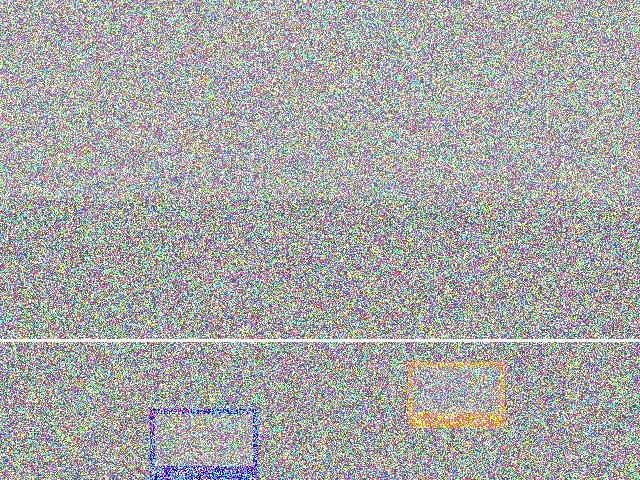bus: (13, 325, 172, 420)
truck: (383, 225, 532, 357)
